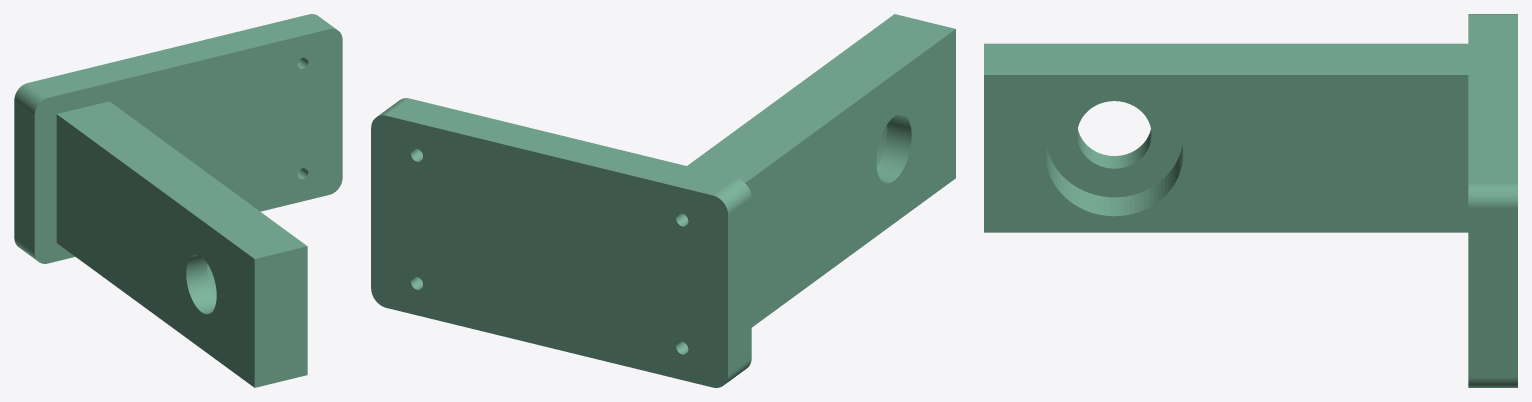
The picture shows the model from 3 angles, left to right: view 1: azimuth 30°, elevation 25°; view 2: azimuth 150°, elevation 25°; view 3: azimuth 270°, elevation 25°; orthographic projection. The views are drawn at different scales.
Visible parts, largest first — view 1: F09_spool_stand_left_608_bore; view 2: F09_spool_stand_left_608_bore; view 3: F09_spool_stand_left_608_bore.
Boxes of the visible parts, x1,y1,x2,y2 form: F09_spool_stand_left_608_bore: [14, 14, 342, 387]; F09_spool_stand_left_608_bore: [371, 14, 955, 387]; F09_spool_stand_left_608_bore: [984, 14, 1517, 387].
Size of the model in its own units: 70 by 36 by 86.
